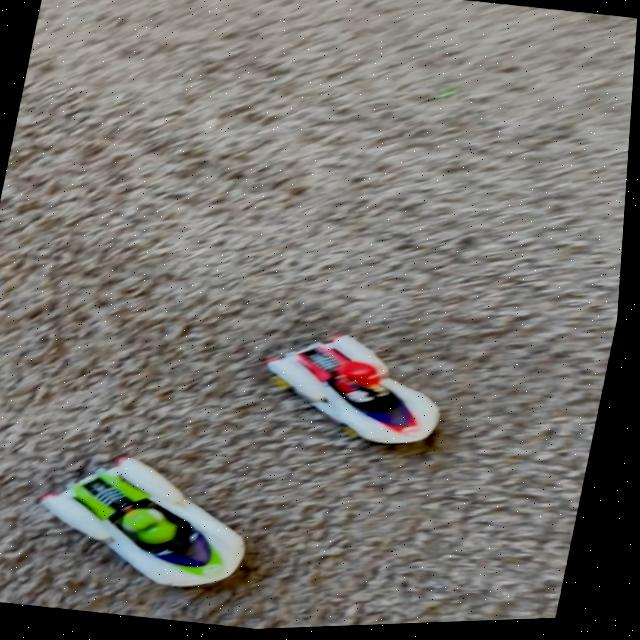mario: (247, 312, 493, 470)
yoshi: (23, 428, 291, 615)
